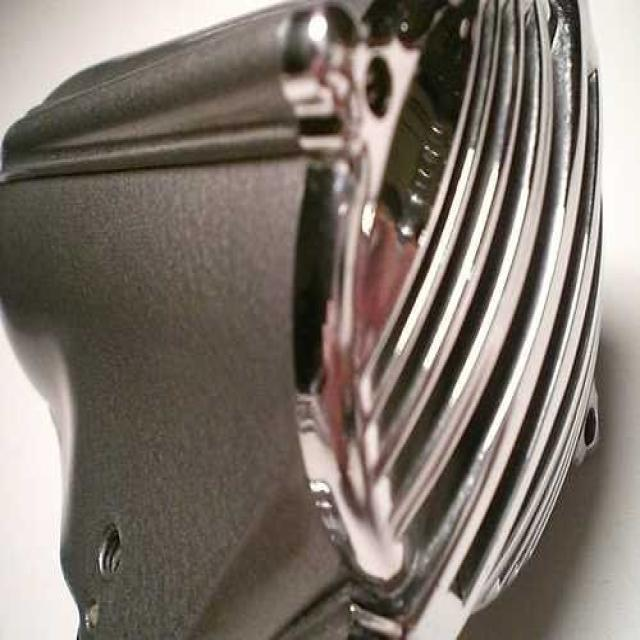microphone: (5, 16, 637, 634)
